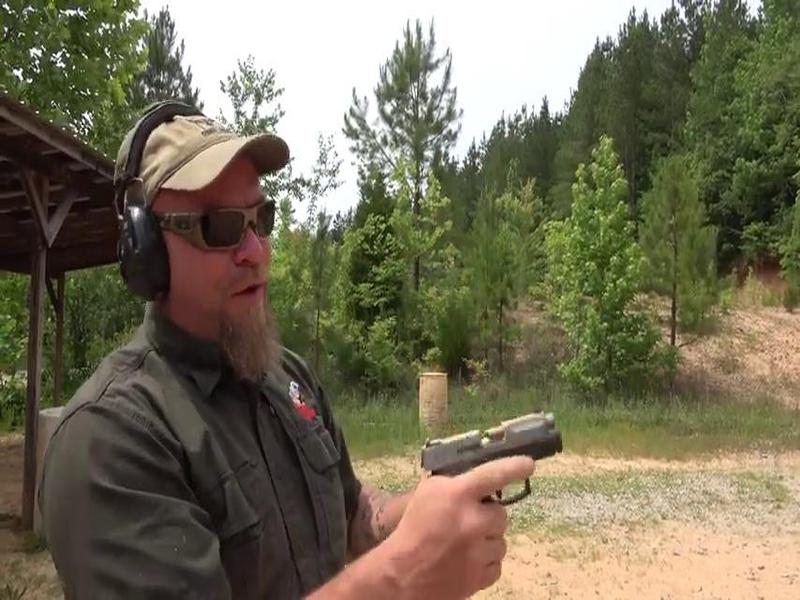Pistola: (402, 386, 593, 548)
